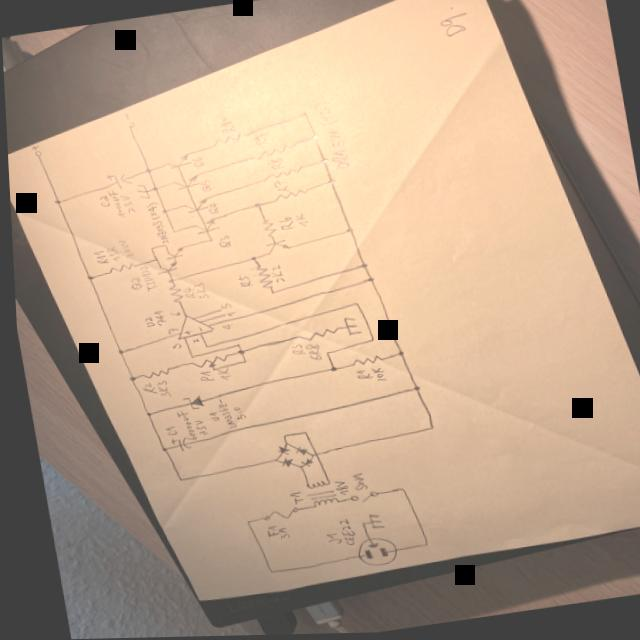capacitor: (102, 171, 130, 192), (163, 436, 190, 454)
crossover: (308, 454, 312, 457)
diode: (175, 395, 201, 412), (273, 458, 287, 470), (270, 446, 284, 457), (288, 447, 302, 458), (294, 459, 307, 469)
ground: (338, 317, 356, 339), (360, 513, 378, 532), (132, 185, 147, 201)
junction: (307, 133, 317, 142), (249, 203, 260, 210), (315, 159, 326, 166), (391, 352, 400, 360), (322, 367, 332, 374), (406, 387, 416, 394), (140, 168, 150, 175), (81, 275, 91, 282), (297, 113, 307, 120), (355, 263, 364, 270), (111, 349, 120, 356), (122, 376, 131, 383), (49, 199, 58, 206), (361, 277, 370, 284), (362, 338, 371, 345), (138, 412, 147, 419), (341, 229, 350, 236), (421, 426, 430, 433), (147, 186, 156, 193), (231, 350, 240, 357), (318, 352, 327, 359), (323, 179, 332, 186), (392, 488, 400, 495), (265, 290, 273, 297), (158, 209, 165, 216), (245, 256, 253, 262), (235, 360, 243, 366), (415, 543, 423, 549), (348, 302, 356, 308), (154, 447, 162, 453), (260, 569, 267, 575), (167, 229, 174, 235), (295, 431, 302, 437), (229, 344, 236, 350), (353, 523, 361, 528), (275, 434, 281, 440), (184, 355, 190, 361), (149, 257, 155, 263), (238, 521, 244, 526), (170, 478, 176, 483), (199, 345, 205, 350), (163, 279, 169, 284), (204, 239, 210, 244), (267, 459, 271, 463), (292, 467, 296, 470), (145, 249, 149, 251), (158, 245, 162, 247), (304, 455, 306, 458), (278, 443, 281, 445), (207, 370, 210, 372)
resistor: (291, 327, 337, 344), (253, 144, 295, 160), (188, 354, 224, 372), (249, 266, 270, 292), (344, 356, 380, 370), (102, 261, 135, 276), (209, 134, 243, 148), (265, 168, 301, 181), (272, 189, 306, 202), (136, 367, 167, 381), (163, 284, 180, 306), (257, 218, 273, 241)
switch: (341, 489, 375, 508)
terminal: (125, 123, 134, 131), (30, 150, 39, 157), (213, 309, 217, 313), (217, 314, 221, 318)
text: (142, 201, 167, 246), (209, 398, 232, 432), (310, 101, 336, 129), (171, 410, 191, 443), (104, 189, 123, 221), (330, 518, 349, 549), (135, 264, 154, 295), (326, 150, 348, 172), (113, 238, 132, 262), (300, 343, 319, 364), (117, 194, 134, 217), (324, 131, 343, 151), (247, 133, 270, 149), (273, 215, 292, 234), (150, 380, 168, 400), (189, 282, 207, 302), (327, 478, 344, 499), (264, 264, 281, 285), (262, 157, 284, 173), (344, 472, 361, 492), (147, 309, 164, 329), (101, 243, 118, 263), (215, 117, 233, 135), (290, 212, 308, 230), (88, 249, 106, 267), (365, 368, 382, 386), (232, 274, 249, 291), (226, 405, 242, 423), (269, 179, 287, 195), (349, 368, 367, 384), (212, 235, 229, 251), (135, 382, 152, 398), (317, 532, 335, 547), (188, 419, 202, 438), (282, 491, 298, 507), (192, 371, 210, 385), (124, 276, 139, 292), (177, 286, 193, 301), (211, 368, 228, 382), (196, 179, 211, 194), (201, 410, 215, 425), (188, 157, 203, 171), (136, 316, 151, 329), (159, 425, 173, 438), (203, 203, 216, 216), (271, 527, 283, 541), (95, 195, 107, 208), (258, 527, 272, 538), (286, 345, 299, 356), (215, 324, 229, 331), (166, 343, 178, 351), (186, 338, 197, 345), (216, 303, 227, 310), (179, 329, 188, 337), (162, 328, 173, 334), (165, 312, 178, 317), (28, 144, 37, 151), (221, 312, 231, 318), (121, 113, 128, 121), (192, 327, 197, 333)
transformer: (297, 478, 334, 514)
transistor: (260, 239, 289, 258), (170, 174, 197, 194), (162, 153, 189, 171), (180, 198, 207, 215), (189, 218, 215, 235), (151, 262, 177, 277), (158, 247, 181, 261)
